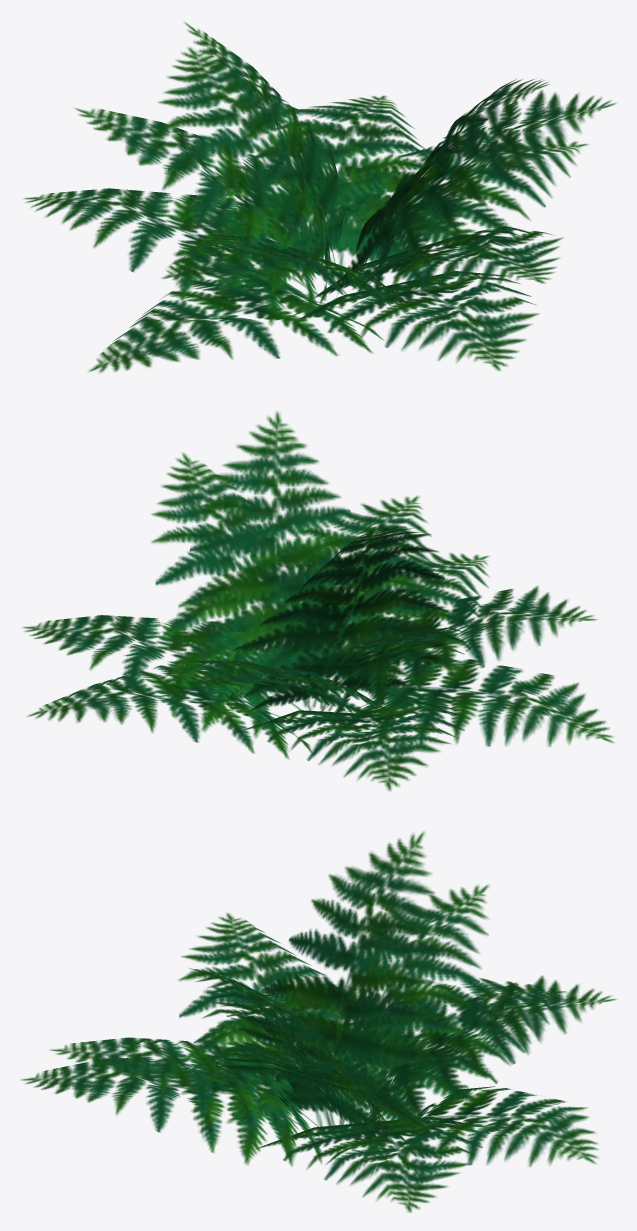
The model's file is fern-small.lod1.glb.
3 renders of one model, top to bottom at view 1: azimuth 30°, elevation 25°; view 2: azimuth 150°, elevation 25°; view 3: azimuth 270°, elevation 25°, orthographic. The views are drawn at different scales.
Parts seen in each view (by area): view 1: SM_Fern_01_Ferns_0; view 2: SM_Fern_01_Ferns_0; view 3: SM_Fern_01_Ferns_0.
Boxes of the visible parts, x1=… form: SM_Fern_01_Ferns_0: x1=24, y1=22, x2=616, y2=372; SM_Fern_01_Ferns_0: x1=22, y1=411, x2=614, y2=791; SM_Fern_01_Ferns_0: x1=21, y1=831, x2=616, y2=1212.
Size of the model in its own units: 1.74 by 0.7967 by 1.68.
1 material, 1 textured.
